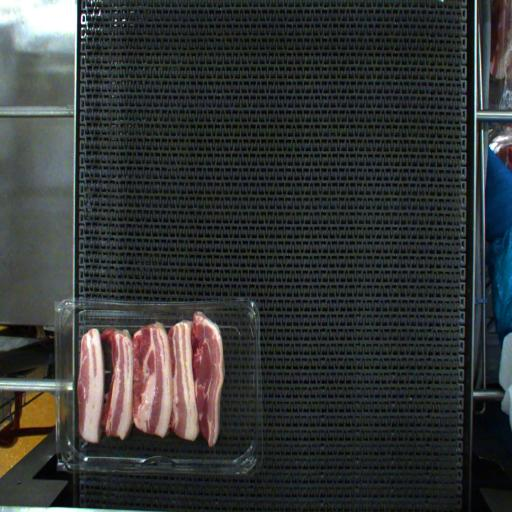loose-meat: (72, 328, 107, 444)
